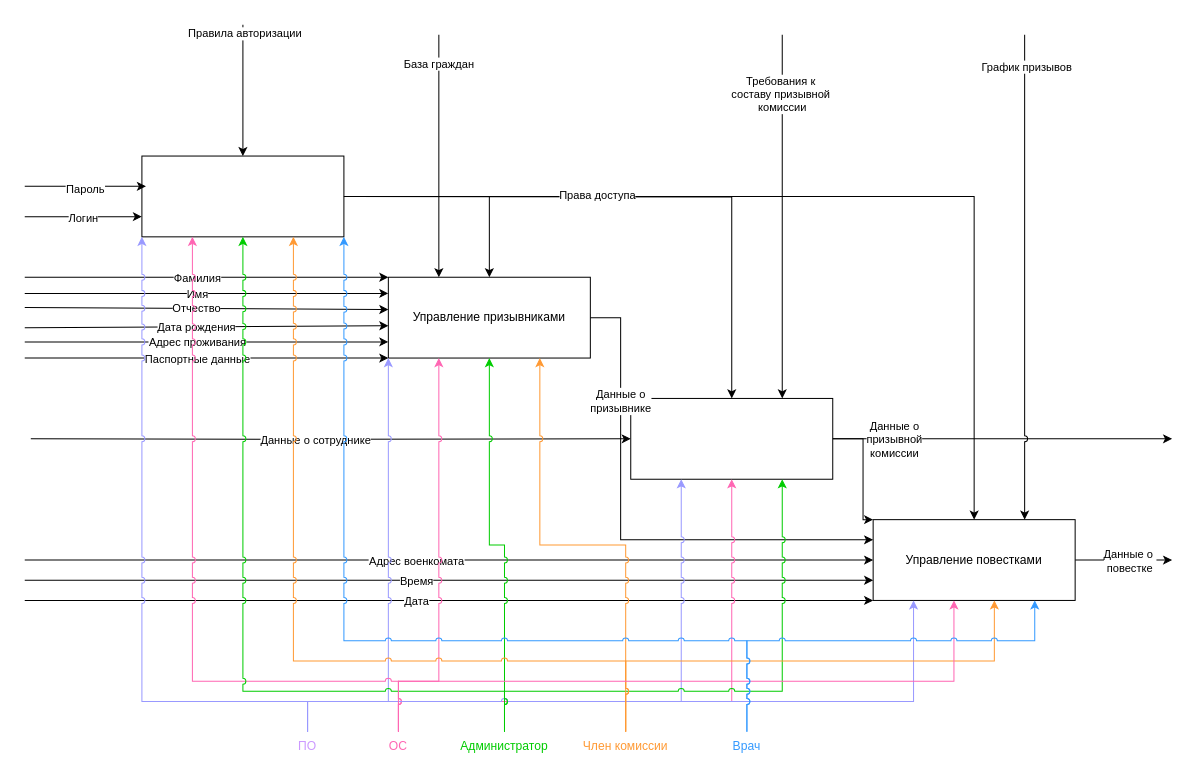
Some shapes in this 1198 by 780 pixel diagram are drawn without their labels. Each missing label, with the box of its shape:
Авторизация: (141, 155, 344, 237)
Управление призывными комиссиями: (630, 397, 833, 479)
